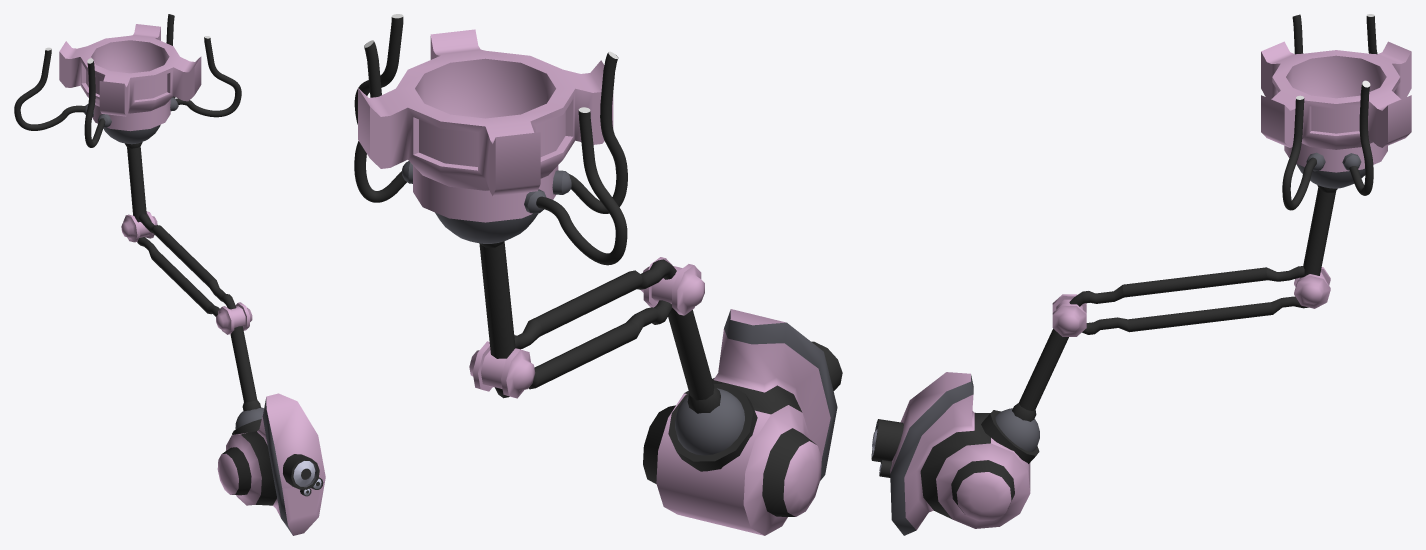
3 renders of one model, left to right at view 1: azimuth 30°, elevation 25°; view 2: azimuth 150°, elevation 25°; view 3: azimuth 270°, elevation 25°, orthographic. The views are drawn at different scales.
Visible parts, largest first — view 1: Tube_2, Head, Cylinder_1, Cylinder, Cylinder_2, Sweep_NURBS, Cylinder_3, Oog_1, Sweep_NURBS_2, Oil_Tank, Sweep_NURBS_1, Oil_Tank_1 (+1 smaller); view 2: Tube_2, Head, Cylinder_1, Sweep_NURBS, Sphere, Cylinder_2, Cylinder_3, Cylinder, Oil_Tank_1, Sweep_NURBS_1, Tube, Oil_Tank (+4 smaller); view 3: Head, Tube_2, Cylinder_1, Cylinder_2, Cylinder, Cylinder_3, Sweep_NURBS_2, Sweep_NURBS_3, Oil_Tank, Sphere, Oil_Tank_1, Oog_1 (+2 smaller).
Part boxes in pixels (x1,y1,x2,y2): Tube_2: [59, 24, 201, 131]; Head: [217, 393, 325, 535]; Cylinder_1: [138, 213, 236, 309]; Cylinder: [230, 326, 260, 411]; Cylinder_2: [137, 237, 219, 316]; Sweep_NURBS: [14, 49, 85, 130]; Cylinder_3: [125, 142, 146, 222]; Oog_1: [283, 454, 319, 489]; Sweep_NURBS_2: [175, 37, 241, 117]; Oil_Tank: [216, 302, 252, 334]; Sweep_NURBS_1: [84, 61, 105, 147]; Oil_Tank_1: [121, 211, 157, 242]; Tube_2: [358, 29, 613, 222]; Head: [643, 309, 837, 535]; Cylinder_1: [514, 259, 676, 349]; Sweep_NURBS: [536, 110, 627, 265]; Sphere: [675, 388, 744, 455]; Cylinder_2: [495, 300, 672, 398]; Cylinder_3: [479, 241, 515, 358]; Cylinder: [668, 308, 720, 413]; Oil_Tank_1: [469, 341, 535, 398]; Sweep_NURBS_1: [569, 52, 627, 213]; Tube: [668, 383, 757, 471]; Oil_Tank: [641, 257, 704, 315]; Head: [890, 372, 1030, 535]; Tube_2: [1261, 41, 1411, 172]; Cylinder_1: [1069, 266, 1304, 306]; Cylinder_2: [1082, 296, 1308, 334]; Cylinder: [1012, 328, 1068, 421]; Cylinder_3: [1303, 185, 1337, 276]; Sweep_NURBS_2: [1282, 98, 1316, 210]; Sweep_NURBS_3: [1349, 83, 1373, 195]; Oil_Tank: [1052, 294, 1086, 336]; Sphere: [995, 408, 1039, 451]; Oil_Tank_1: [1294, 267, 1330, 308]; Oog_1: [871, 419, 903, 462].
Size of the model in its own units: 51.89 by 99.08 by 100.
